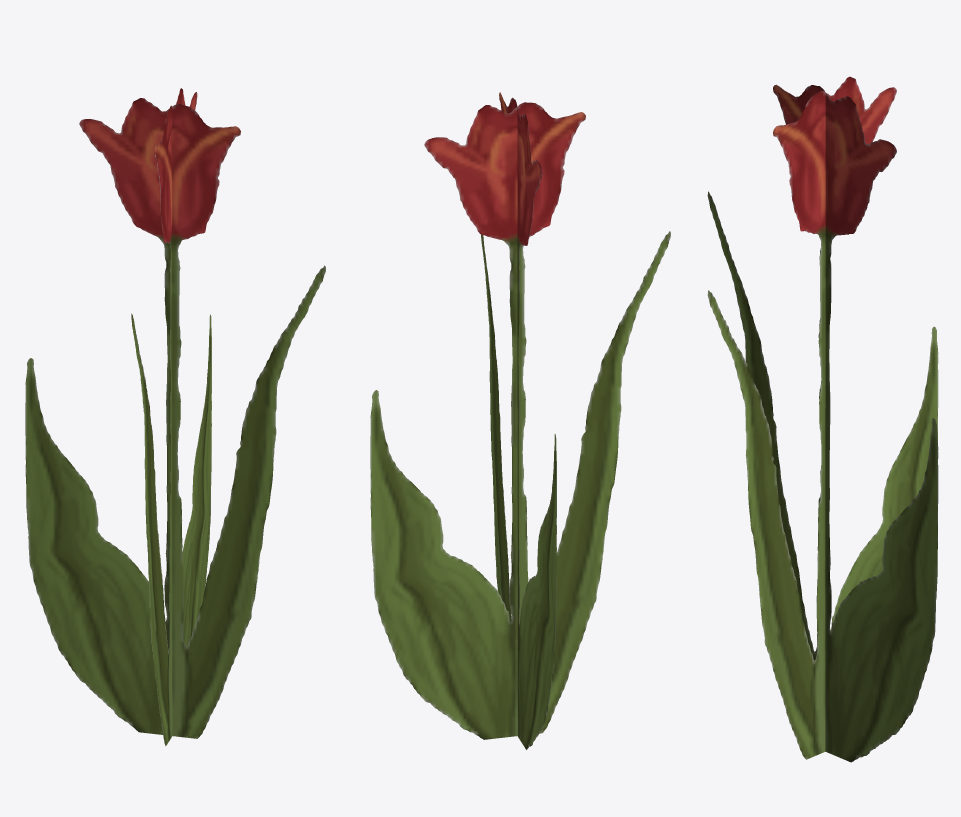
File: flower02.fbx
The picture shows the model from 3 angles, left to right: view 1: azimuth 30°, elevation 25°; view 2: azimuth 150°, elevation 25°; view 3: azimuth 270°, elevation 25°; orthographic projection. The views are drawn at different scales.
Visible parts, largest first — view 1: Flower02, Flower02.001; view 2: Flower02.001, Flower02; view 3: Flower02.001, Flower02.
Part boxes in pixels (x1,y1,x2,y2): Flower02: [25, 98, 325, 738]; Flower02.001: [131, 88, 211, 746]; Flower02.001: [370, 102, 670, 739]; Flower02: [481, 92, 556, 749]; Flower02.001: [707, 84, 938, 762]; Flower02: [707, 76, 938, 759].
Size of the model in its own units: 16.02 by 50 by 16.02.
